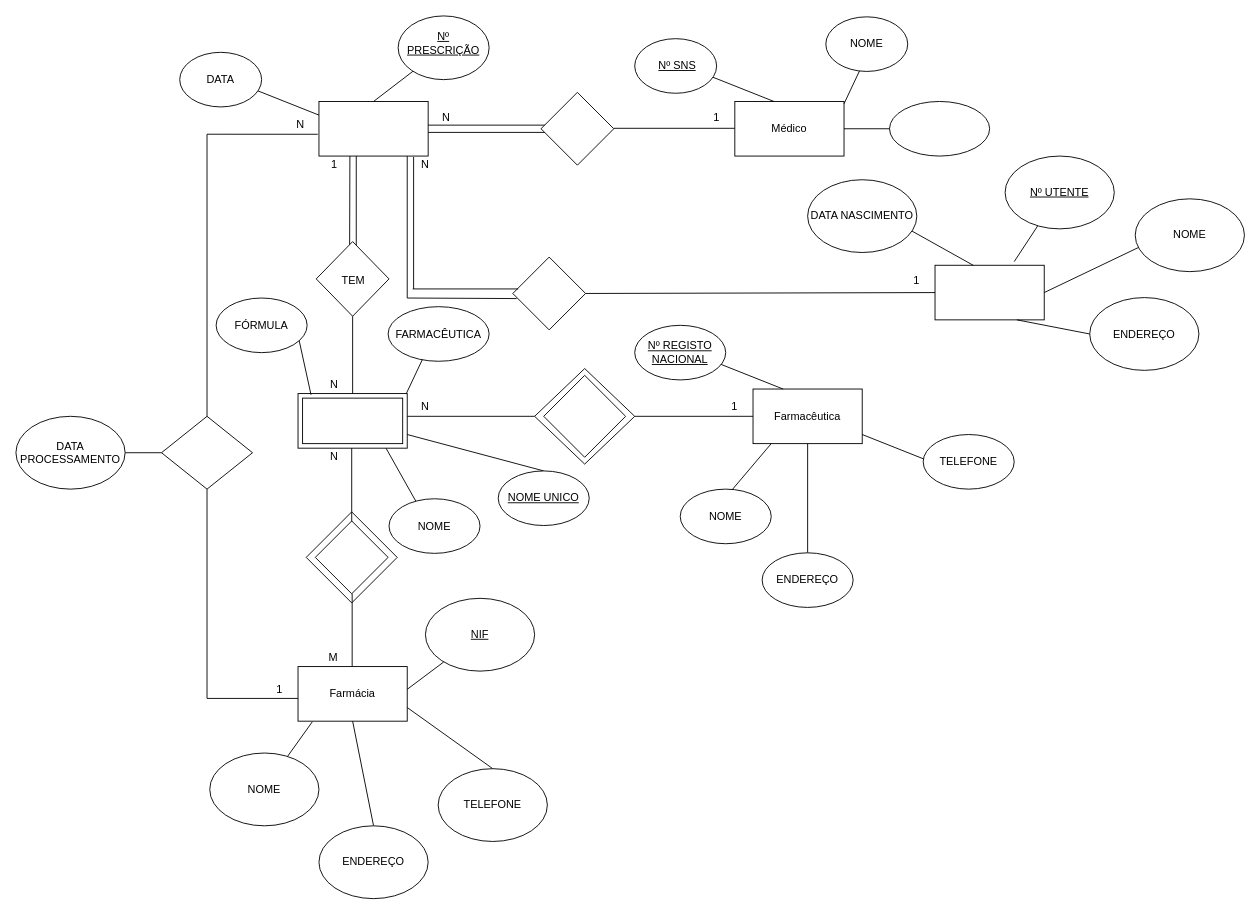
Image size: 1260x915. Some labels were removed from this diagram. Each missing label, with the box of its shape:
DADA: (512, 256, 586, 330)
ESPECIALIDADE: (889, 101, 990, 156)
FAZ: (540, 91, 614, 165)
Fármacos: (302, 397, 403, 444)
Paciente: (934, 264, 1044, 320)
Prescrição: (318, 101, 428, 156)
PROCESSAR: (161, 415, 253, 489)
PRODUZ: (543, 374, 626, 457)
VENDA: (314, 520, 388, 594)
